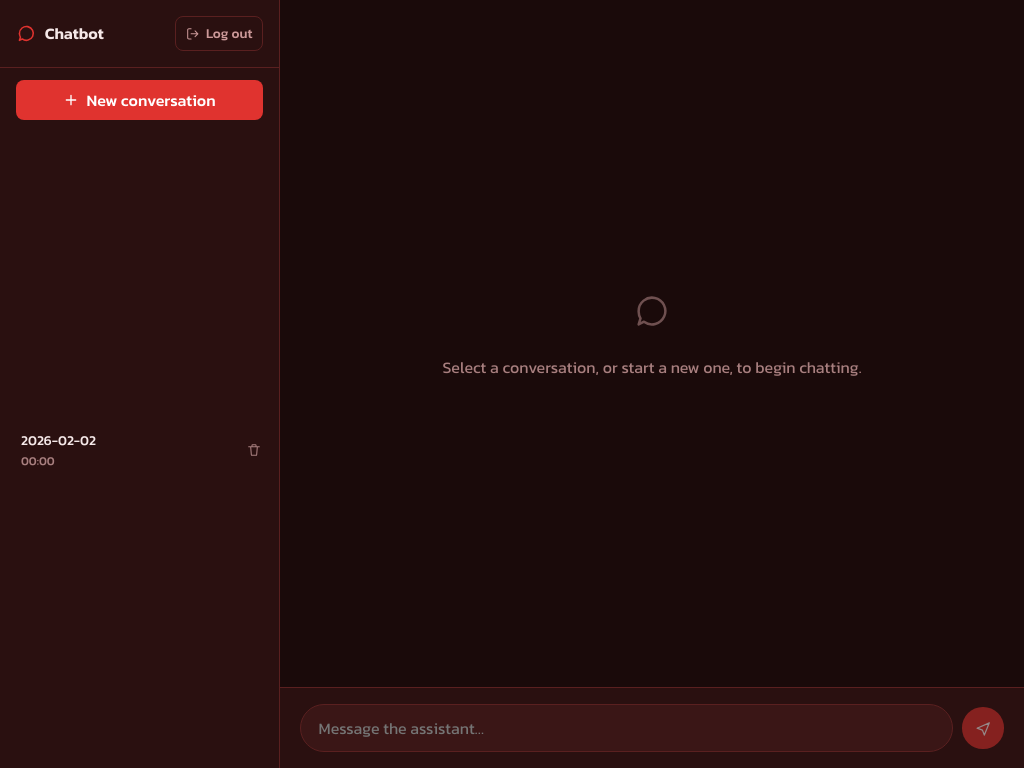
Scenario: selecting a past conversation loads its message history
This screenshot has width=1024, height=768.
Click the button "2026-02-02 00:00" at (121, 450), box [10,421,232,479]
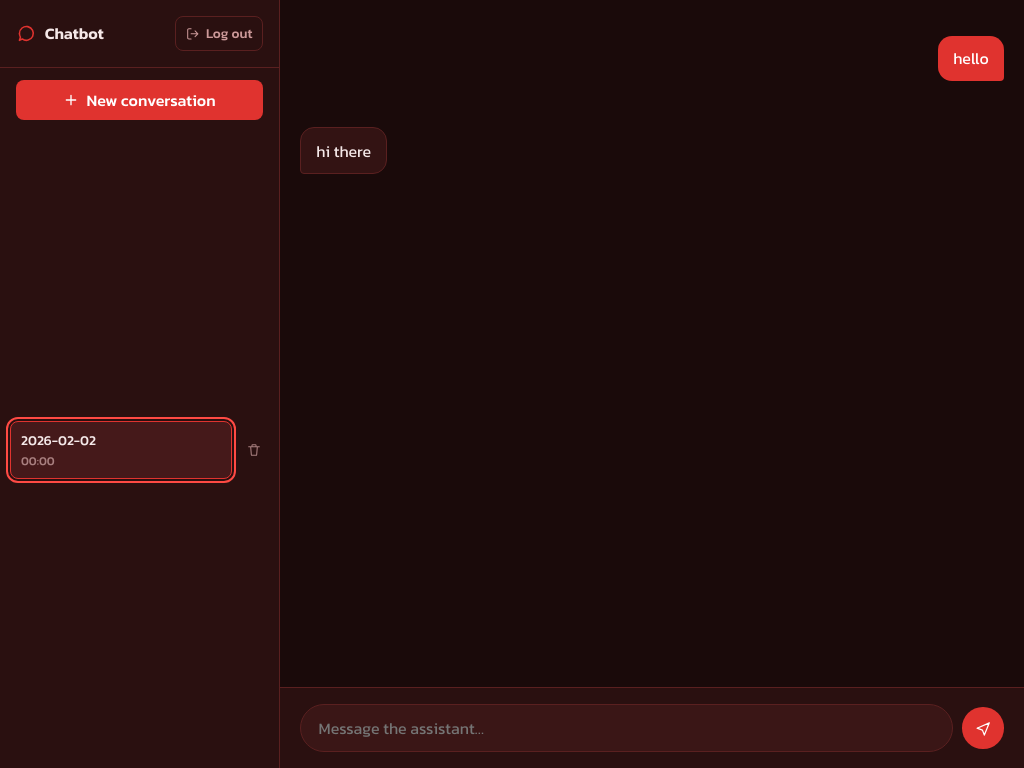
Check: the text "hello" is shown, box [938,36,1004,81]
Check: the text "hi there" is shown, box [300,127,387,174]
